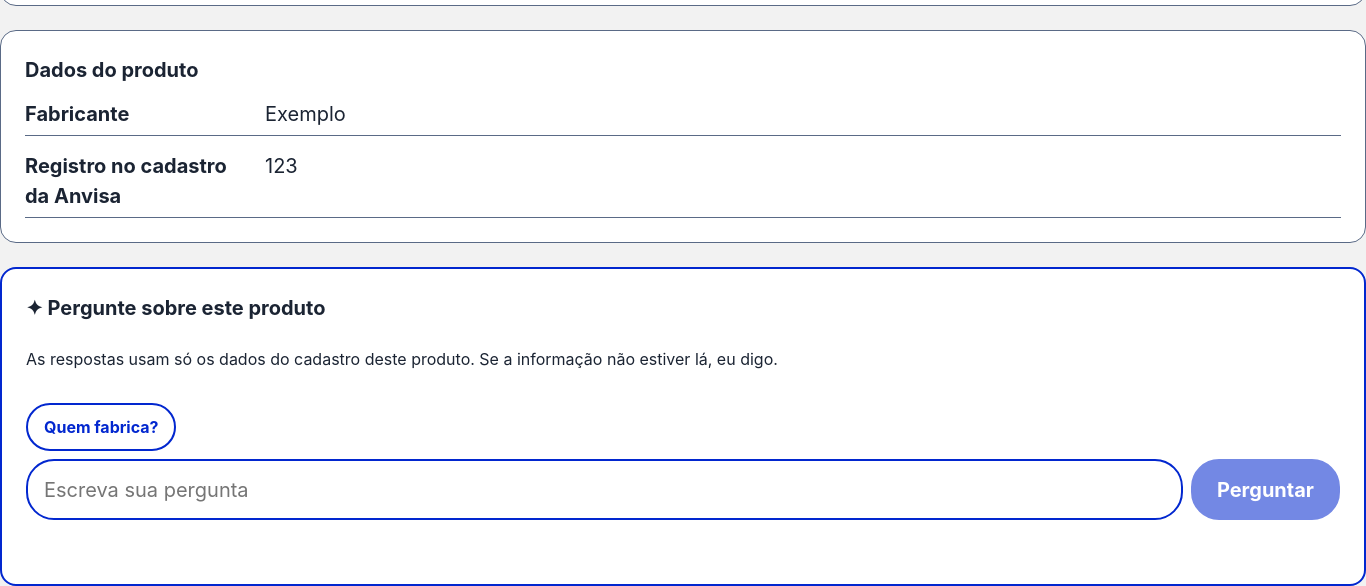
Scenario: página do produto › pergunta sobre o produto: resposta dos dados, com a origem dita
(page scrolled)
Click the button "Quem fabrica?". click: (101, 427)
box: 26,403 -> 176,451
(page scrolled)
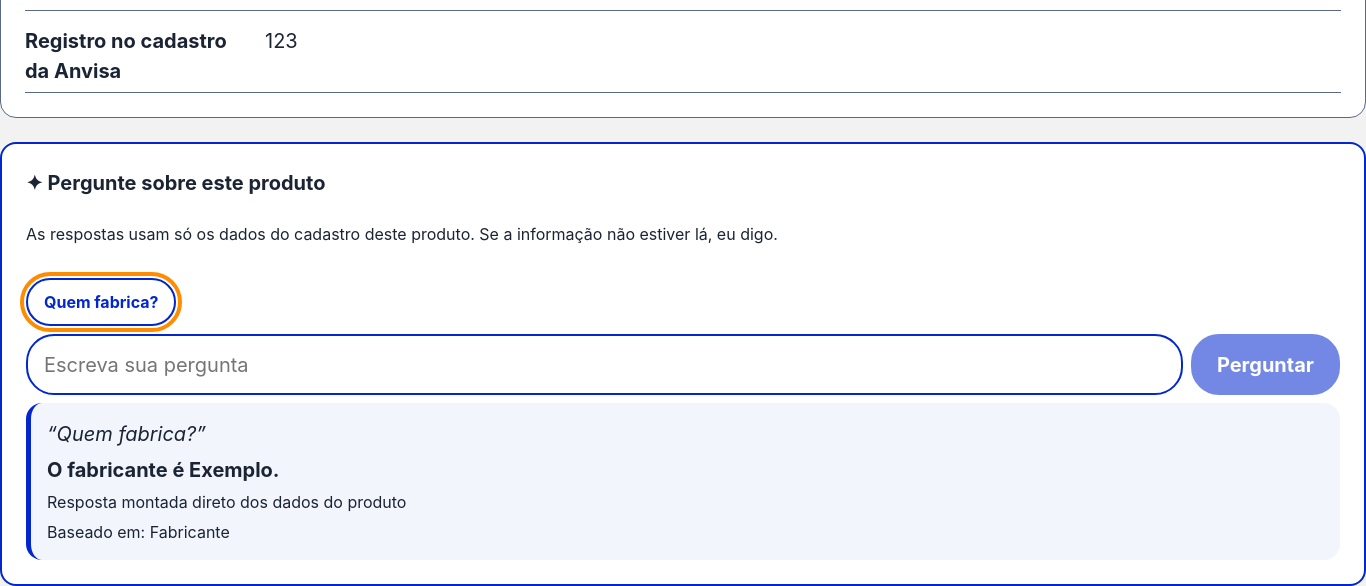
Now the text "O fabricante é Exemplo." is shown, box 47,458 -> 280,482
Now the text "Resposta montada direto dos dados do produto" is shown, box 47,492 -> 406,512
